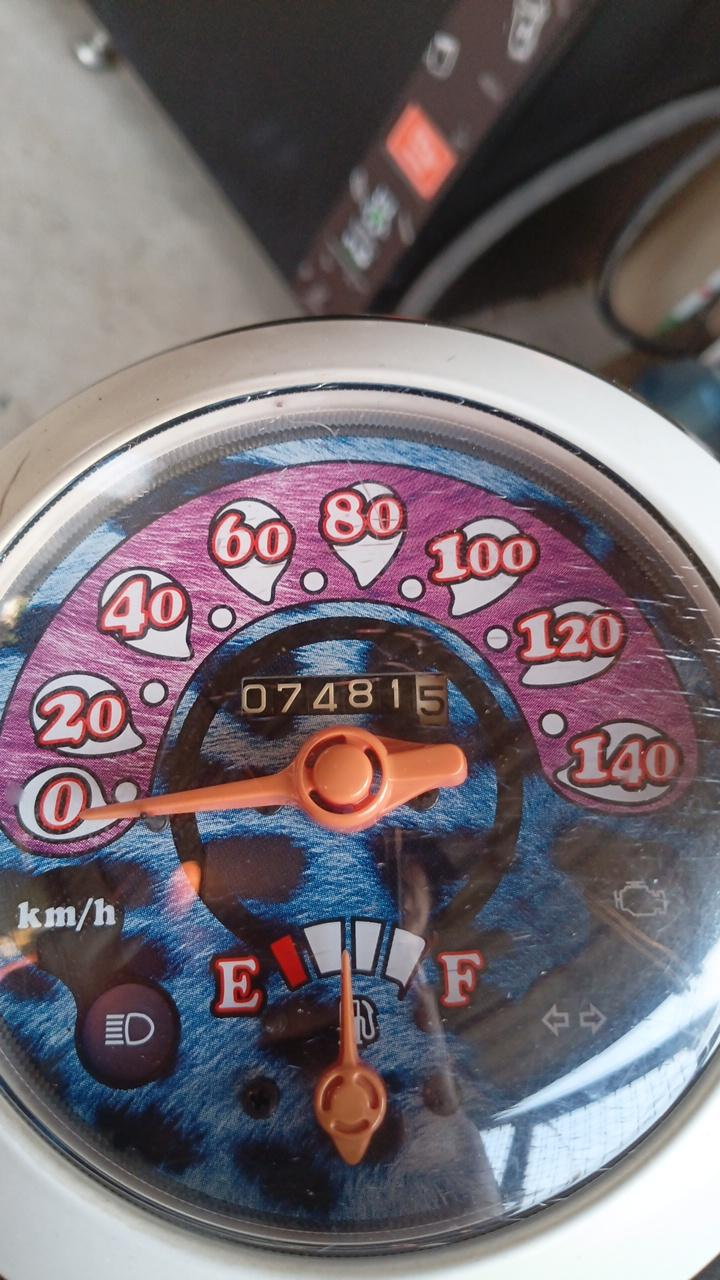0: (241, 683, 267, 714)
1: (390, 677, 401, 710)
4: (312, 682, 339, 713)
5: (418, 684, 446, 717)
7: (276, 683, 302, 715)
8: (347, 678, 374, 708)
odometer: (239, 670, 450, 729)
